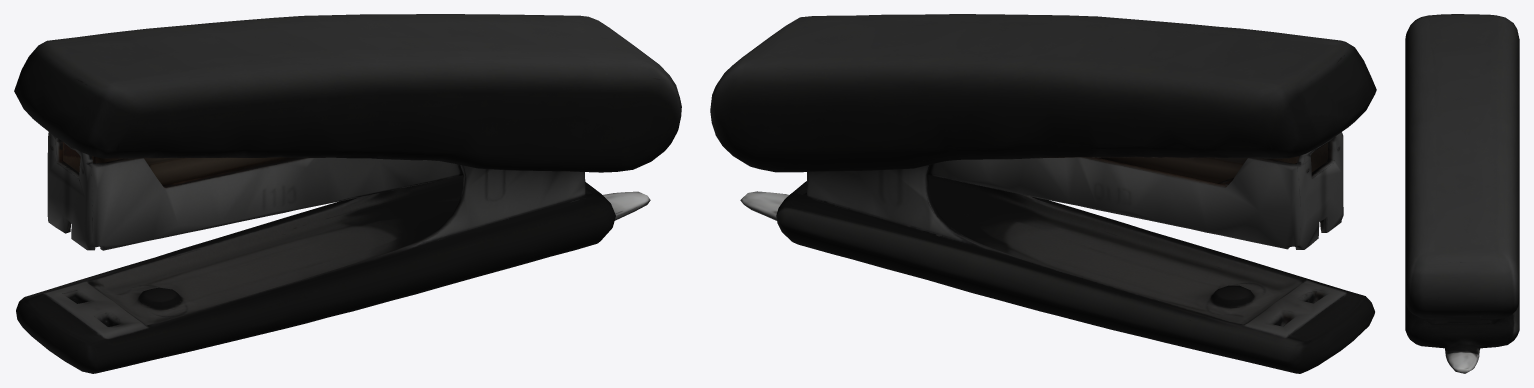
File: zimbabake.fbx
3 views of the same model, side by side, from view 1: azimuth 30°, elevation 25°; view 2: azimuth 150°, elevation 25°; view 3: azimuth 270°, elevation 25° (orthographic). The views are drawn at different scales.
Parts seen in each view (by area): view 1: zimba_low; view 2: zimba_low; view 3: zimba_low.
Part boxes in pixels (bbox=[...]): zimba_low: bbox=[14, 14, 681, 373]; zimba_low: bbox=[710, 14, 1376, 373]; zimba_low: bbox=[1405, 14, 1519, 373].
Size of the model in its own units: 1.91 by 0.8579 by 0.4838.
